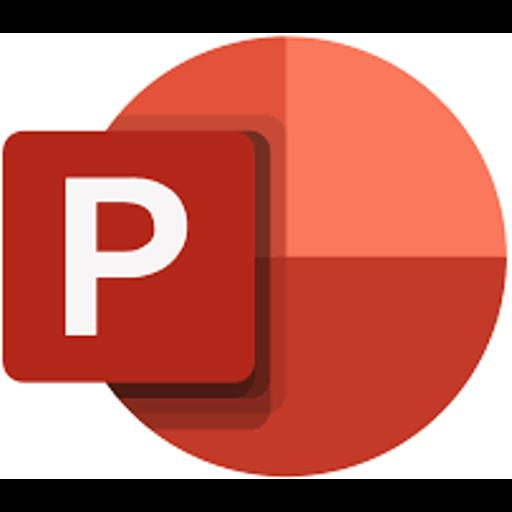Office365: (0, 33, 512, 479)
